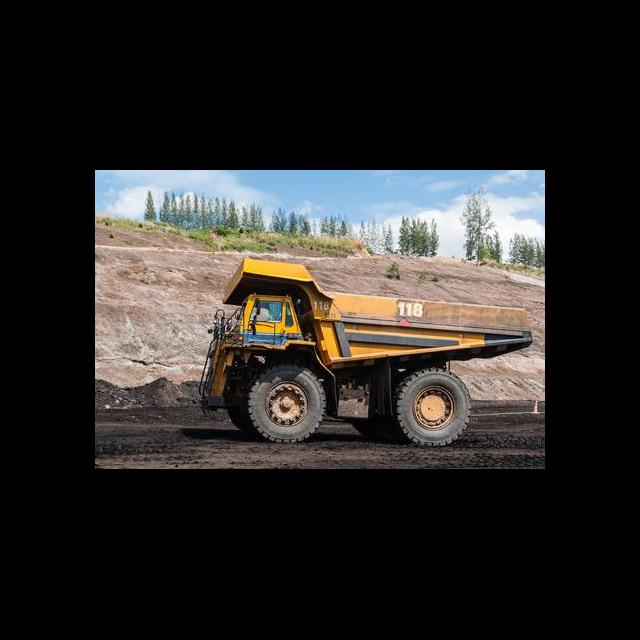Person: (273, 308, 293, 327)
Safety Vest: (275, 312, 291, 322)
dump truck: (199, 257, 533, 450)
